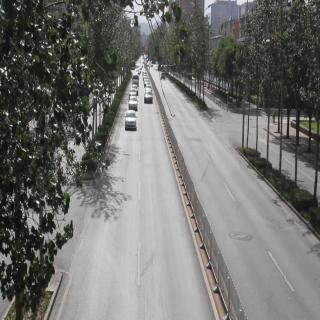Car: (123, 106, 136, 137), (124, 94, 139, 113), (144, 90, 154, 106)
